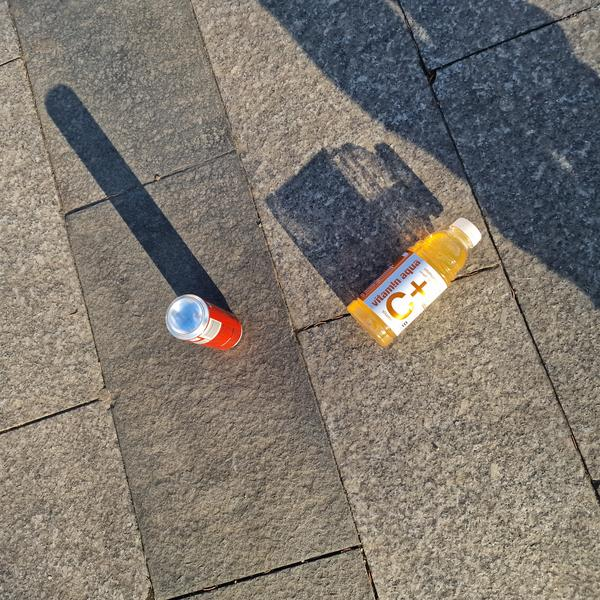can: (157, 286, 250, 365)
plastic_bottle: (343, 202, 494, 351)
